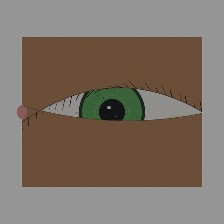pinguecula_lesion: (153, 100, 202, 139)
